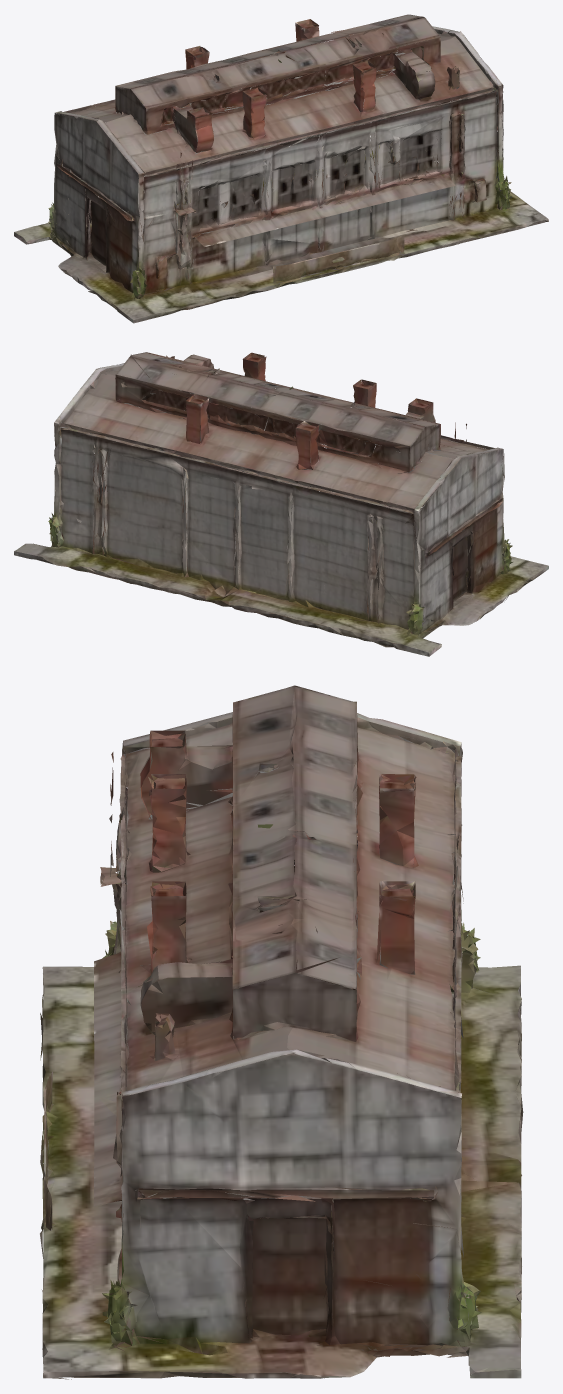
The model's file is building_foundry.glb.
The picture shows the model from 3 angles, top to bottom: view 1: azimuth 30°, elevation 25°; view 2: azimuth 150°, elevation 25°; view 3: azimuth 270°, elevation 25°; orthographic projection. The views are drawn at different scales.
Visible parts, largest first — view 1: building_foundry; view 2: building_foundry; view 3: building_foundry.
Boxes of the visible parts, bbox=[...] form: building_foundry: bbox=[14, 14, 548, 323]; building_foundry: bbox=[14, 352, 548, 656]; building_foundry: bbox=[40, 685, 523, 1379].
Bounding box in the file's own units: 70 × 28.28 × 35.22.
1 material, 1 textured.
